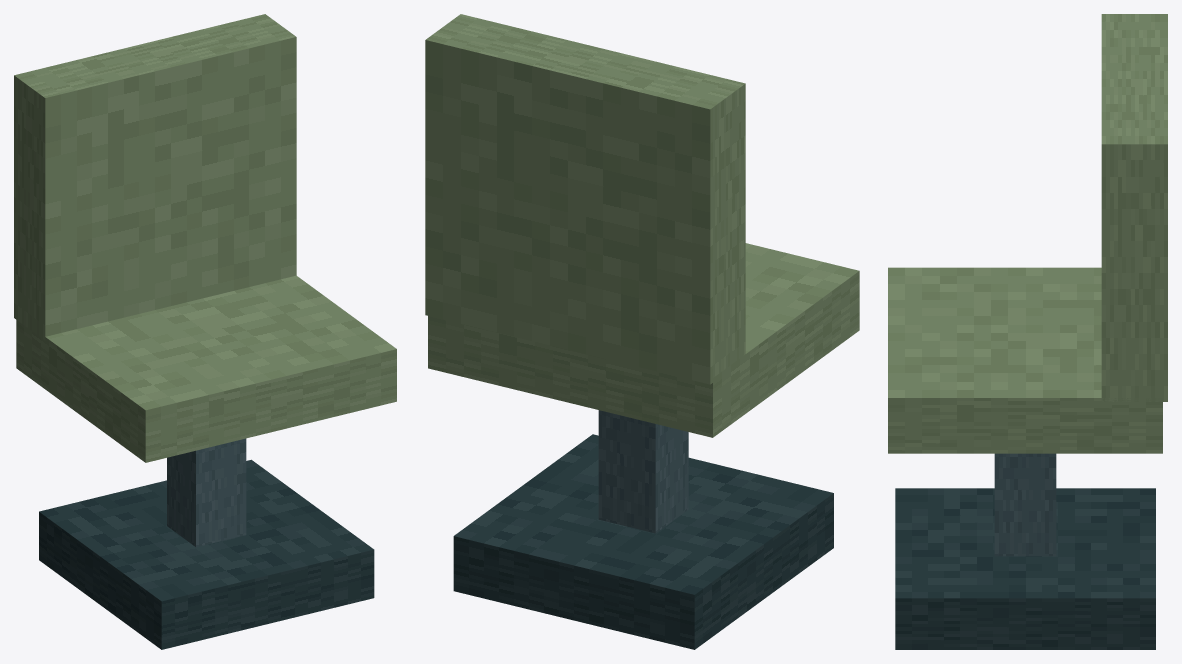
File: chair.glb
3 renders of one model, left to right at view 1: azimuth 30°, elevation 25°; view 2: azimuth 150°, elevation 25°; view 3: azimuth 270°, elevation 25°, orthographic. The views are drawn at different scales.
Parts seen in each view (by area): view 1: block-3, block-2, block-0, block-1; view 2: block-3, block-0, block-2, block-1; view 3: block-2, block-0, block-3, block-1.
Part boxes in pixels (x1,y1,x2,y2): block-3: [14, 14, 296, 340]; block-2: [16, 275, 396, 462]; block-0: [39, 459, 374, 649]; block-1: [167, 438, 246, 547]; block-3: [425, 14, 745, 384]; block-0: [453, 434, 833, 649]; block-2: [428, 243, 859, 437]; block-1: [598, 410, 688, 533]; block-2: [888, 267, 1162, 453]; block-0: [895, 488, 1155, 649]; block-3: [1101, 14, 1167, 401]; block-1: [994, 453, 1056, 556].
Size of the model in its own units: 0.65 by 1.2 by 0.59.
Materials: 3 (3 with a texture image).
